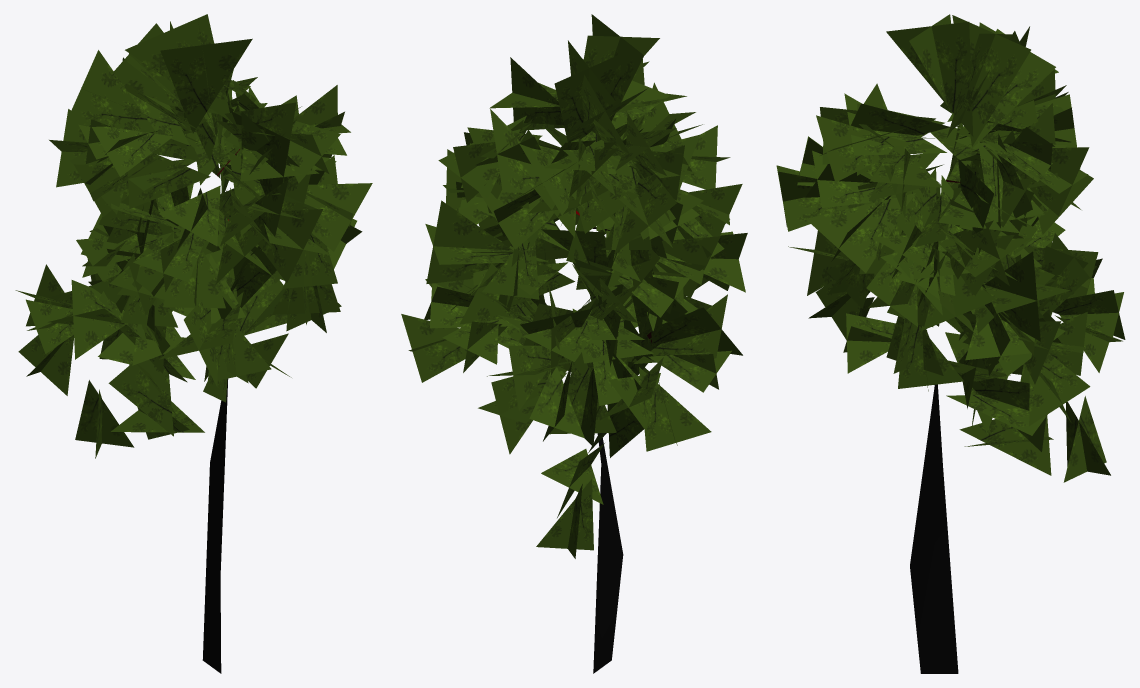
The model's file is birch 3 lod3.FBX.
3 renders of one model, left to right at view 1: azimuth 30°, elevation 25°; view 2: azimuth 150°, elevation 25°; view 3: azimuth 270°, elevation 25°, orthographic. The views are drawn at different scales.
Parts seen in each view (by area): view 1: birch3_LOD3; view 2: birch3_LOD3; view 3: birch3_LOD3.
Part boxes in pixels (x1,y1,x2,y2): birch3_LOD3: [15, 14, 372, 673]; birch3_LOD3: [401, 14, 747, 673]; birch3_LOD3: [776, 14, 1125, 673].
Bounding box in the file's own units: 59392 × 122248 × 59281.
